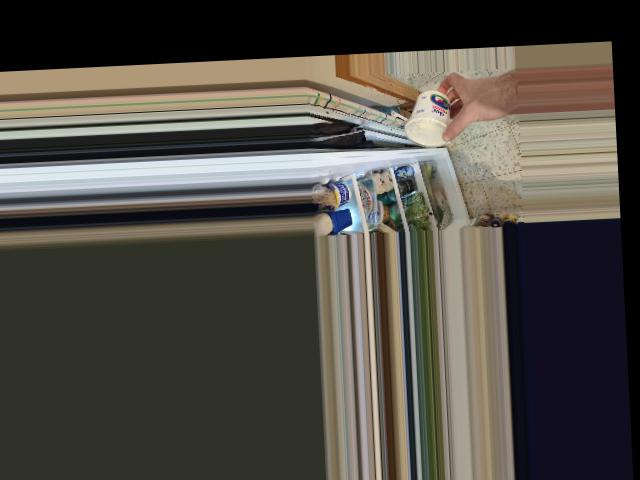cotage: (399, 89, 457, 138)
